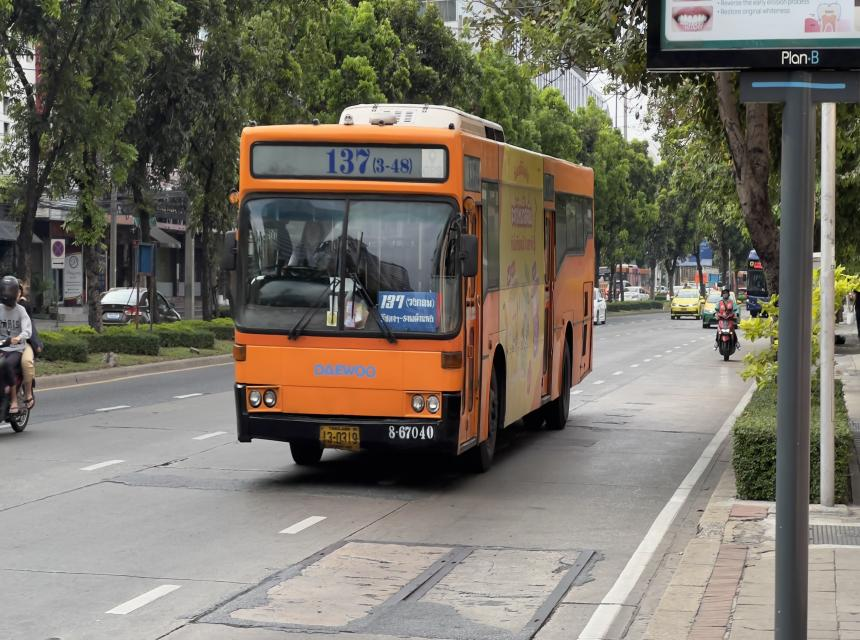BMTA-bus: (230, 106, 602, 471)
Bus Line Number: (320, 142, 417, 178)
Bus Side Number: (385, 420, 437, 446)
Destination Sign: (378, 287, 439, 337)
TSB-Bus: (742, 249, 774, 319)
